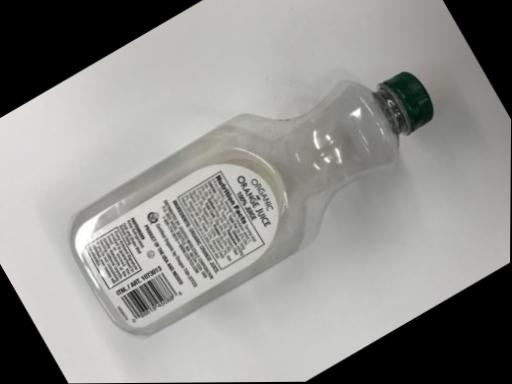plastic: (2, 0, 453, 381)
